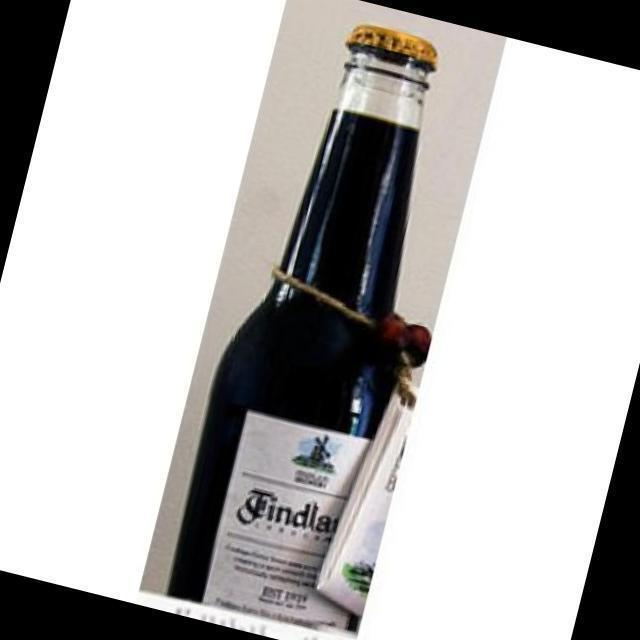BotolKaca: (163, 22, 440, 623)
